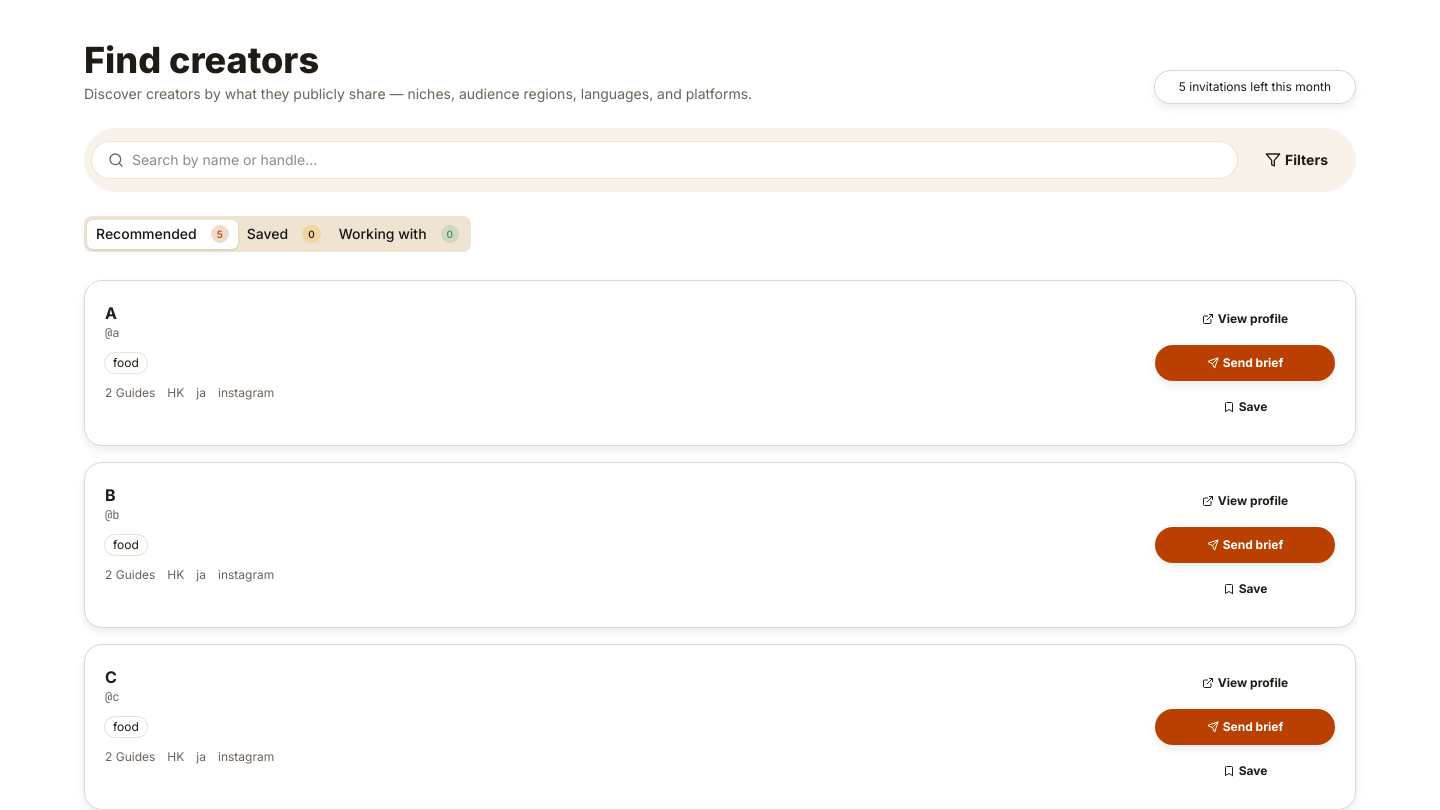
Test: MerchantsCreatorsView › growth tier: shows all results, filter button enabled, no upgrade banner
Click the button "Filters".
click(1297, 160)  # box [1245,140,1348,180]
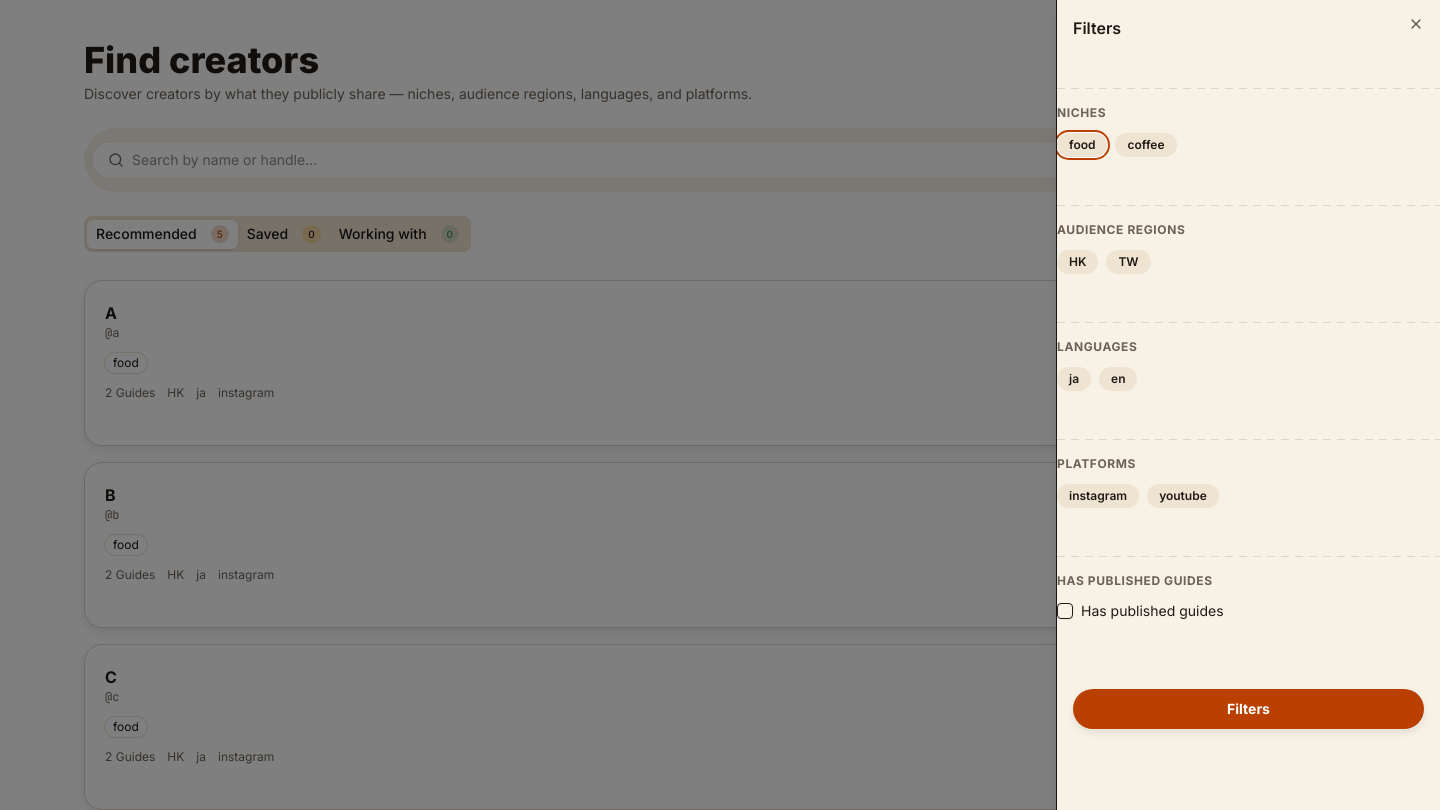
Expected: the heading "Niches" is shown, [1057,105,1106,120]
